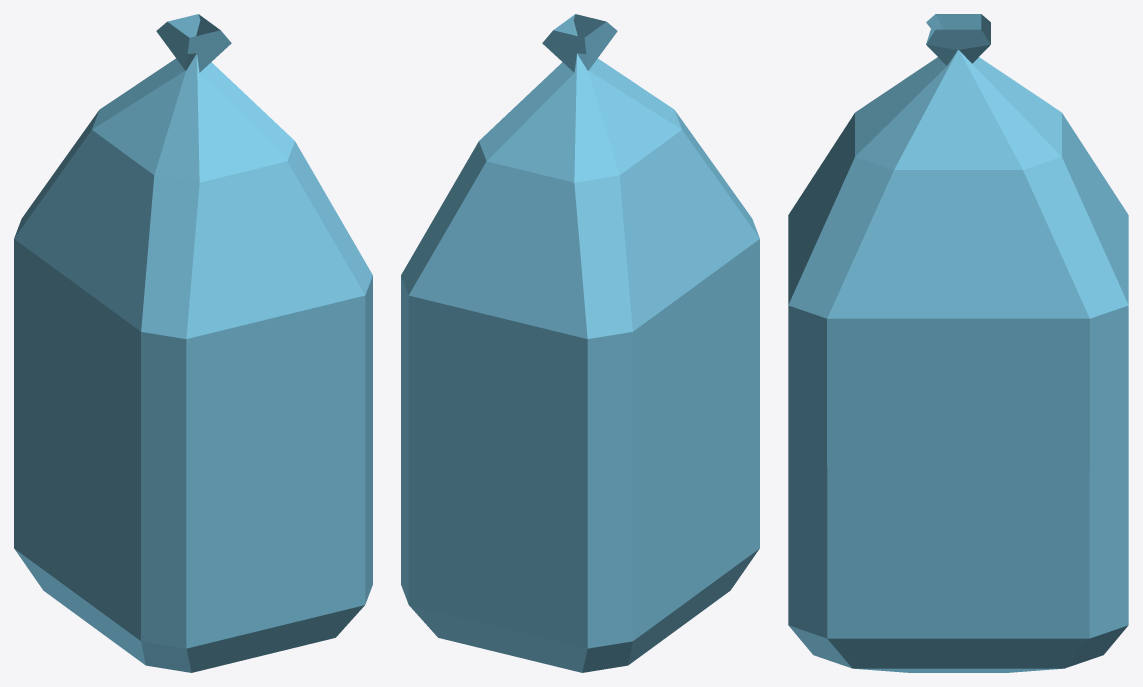
Rendered from Sac de Pomme.fbx.
The picture shows the model from 3 angles, left to right: view 1: azimuth 30°, elevation 25°; view 2: azimuth 150°, elevation 25°; view 3: azimuth 270°, elevation 25°; orthographic projection. The views are drawn at different scales.
Visible parts, largest first — view 1: Cube; view 2: Cube; view 3: Cube.
Boxes of the visible parts, left/top/right/bottom form: Cube: left=14, top=14, right=372, bottom=672; Cube: left=401, top=14, right=759, bottom=672; Cube: left=788, top=14, right=1128, bottom=672.
Size of the model in its own units: 156 by 388 by 193.
